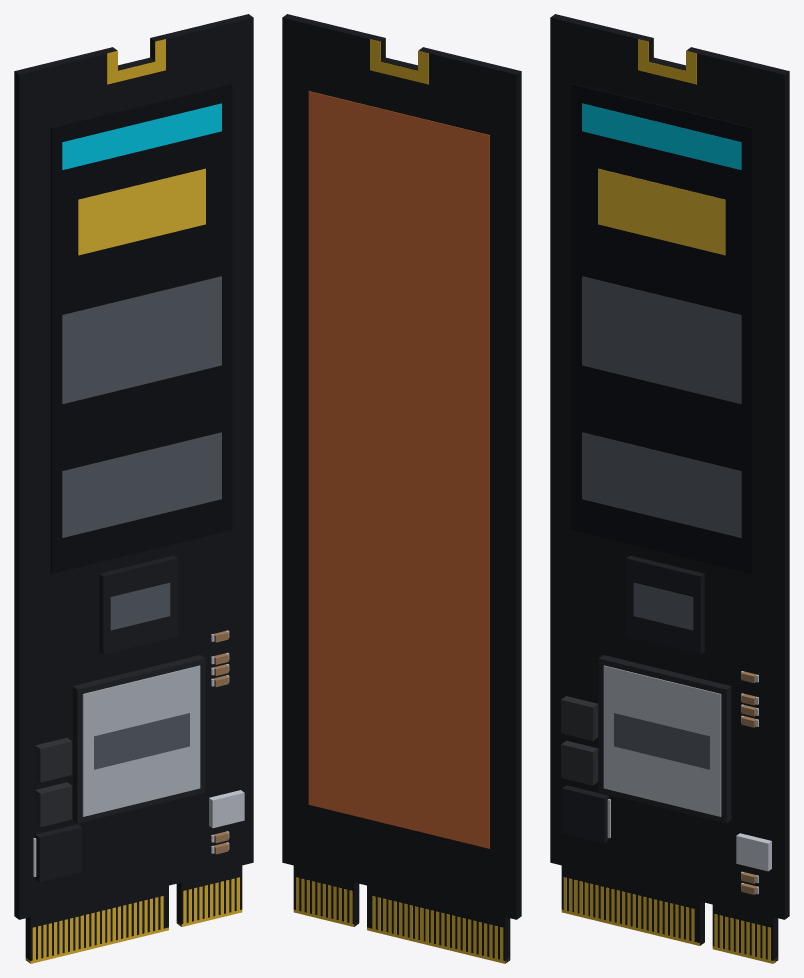
The model's file is SSD_M2_1TB_NVME_PCIE4_LAPTOP.obj.
3 views of the same model, side by side, from view 1: azimuth 30°, elevation 25°; view 2: azimuth 150°, elevation 25°; view 3: azimuth 330°, elevation 25° (orthographic).
Bounding box in the file's own units: 22 × 80 × 1.79.
